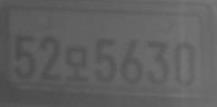0: (174, 41, 196, 87)
2: (39, 36, 62, 82)
3: (146, 39, 170, 86)
5: (93, 36, 117, 84), (13, 35, 36, 79)
6: (119, 38, 143, 85)
모: (65, 46, 88, 84)
